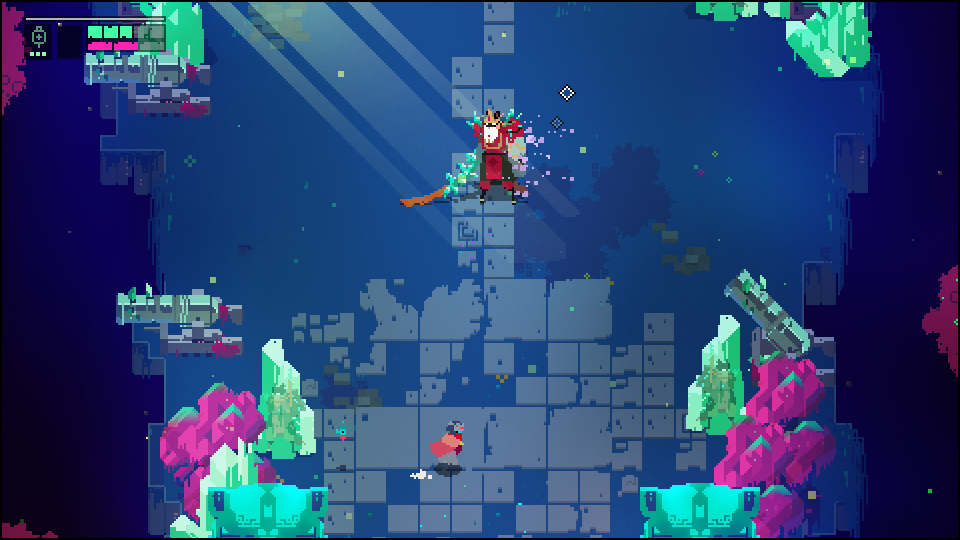hanged_man: (443, 110, 526, 213)
player: (428, 417, 468, 468)
